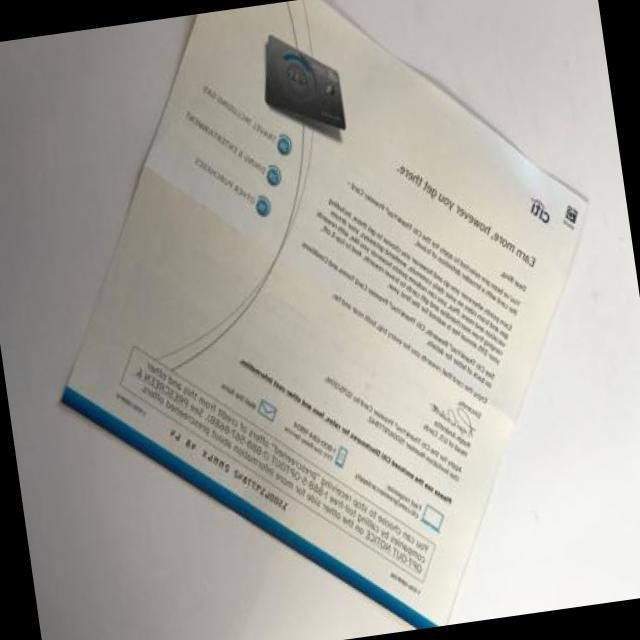paper: (21, 0, 629, 640)
